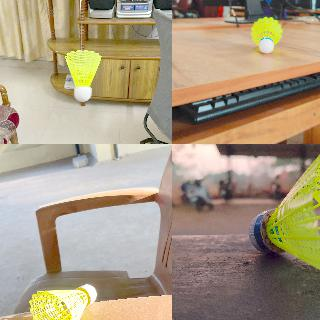shuttlecock: (247, 144, 319, 290), (29, 284, 96, 319), (64, 49, 100, 101), (250, 16, 282, 54)
